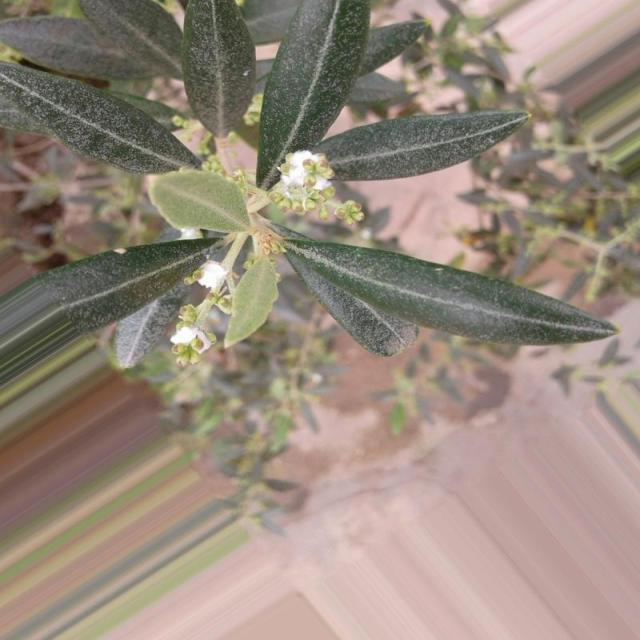Psyllid: (272, 150, 334, 200), (170, 304, 216, 366), (184, 260, 230, 298)
